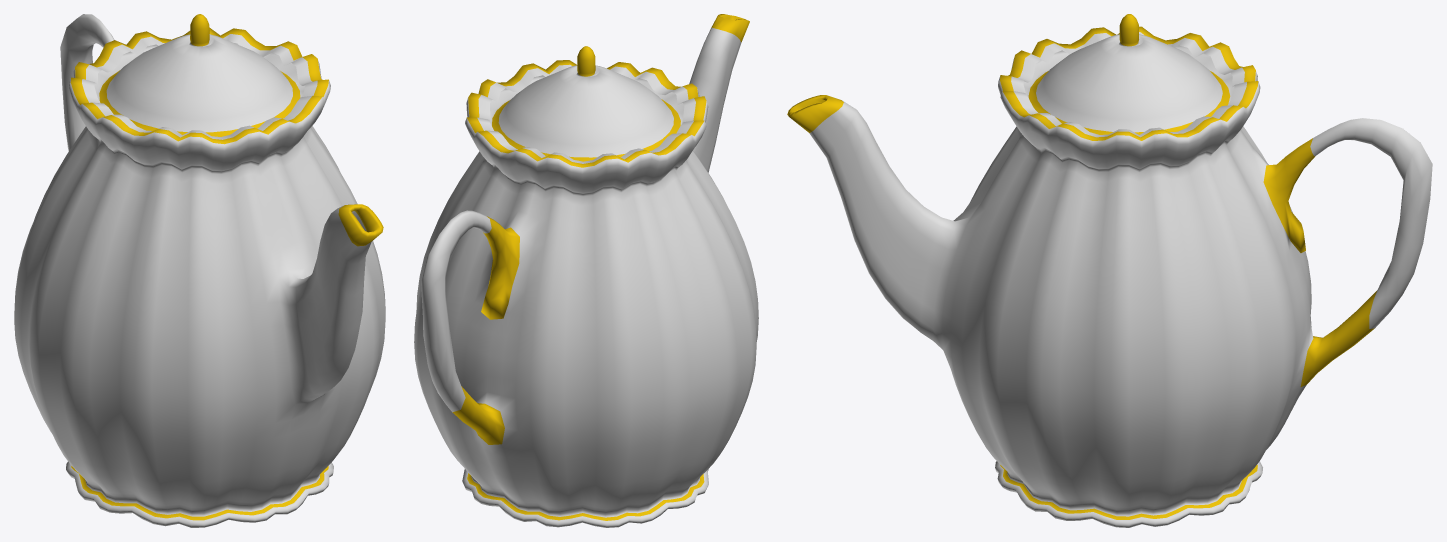
Rendered from teapot.fbx.
3 renders of one model, left to right at view 1: azimuth 30°, elevation 25°; view 2: azimuth 150°, elevation 25°; view 3: azimuth 270°, elevation 25°, orthographic. The views are drawn at different scales.
Parts seen in each view (by area): view 1: Cylinder, Lid; view 2: Cylinder, Lid; view 3: Cylinder, Lid.
Part boxes in pixels (<box>): Cylinder: <box>14,14,385,527</box>; Lid: <box>99,14,300,136</box>; Cylinder: <box>414,14,758,527</box>; Lid: <box>492,46,680,161</box>; Cylinder: <box>787,26,1432,527</box>; Lid: <box>1028,14,1230,134</box>.
Size of the model in its own units: 283 by 389 by 491.
